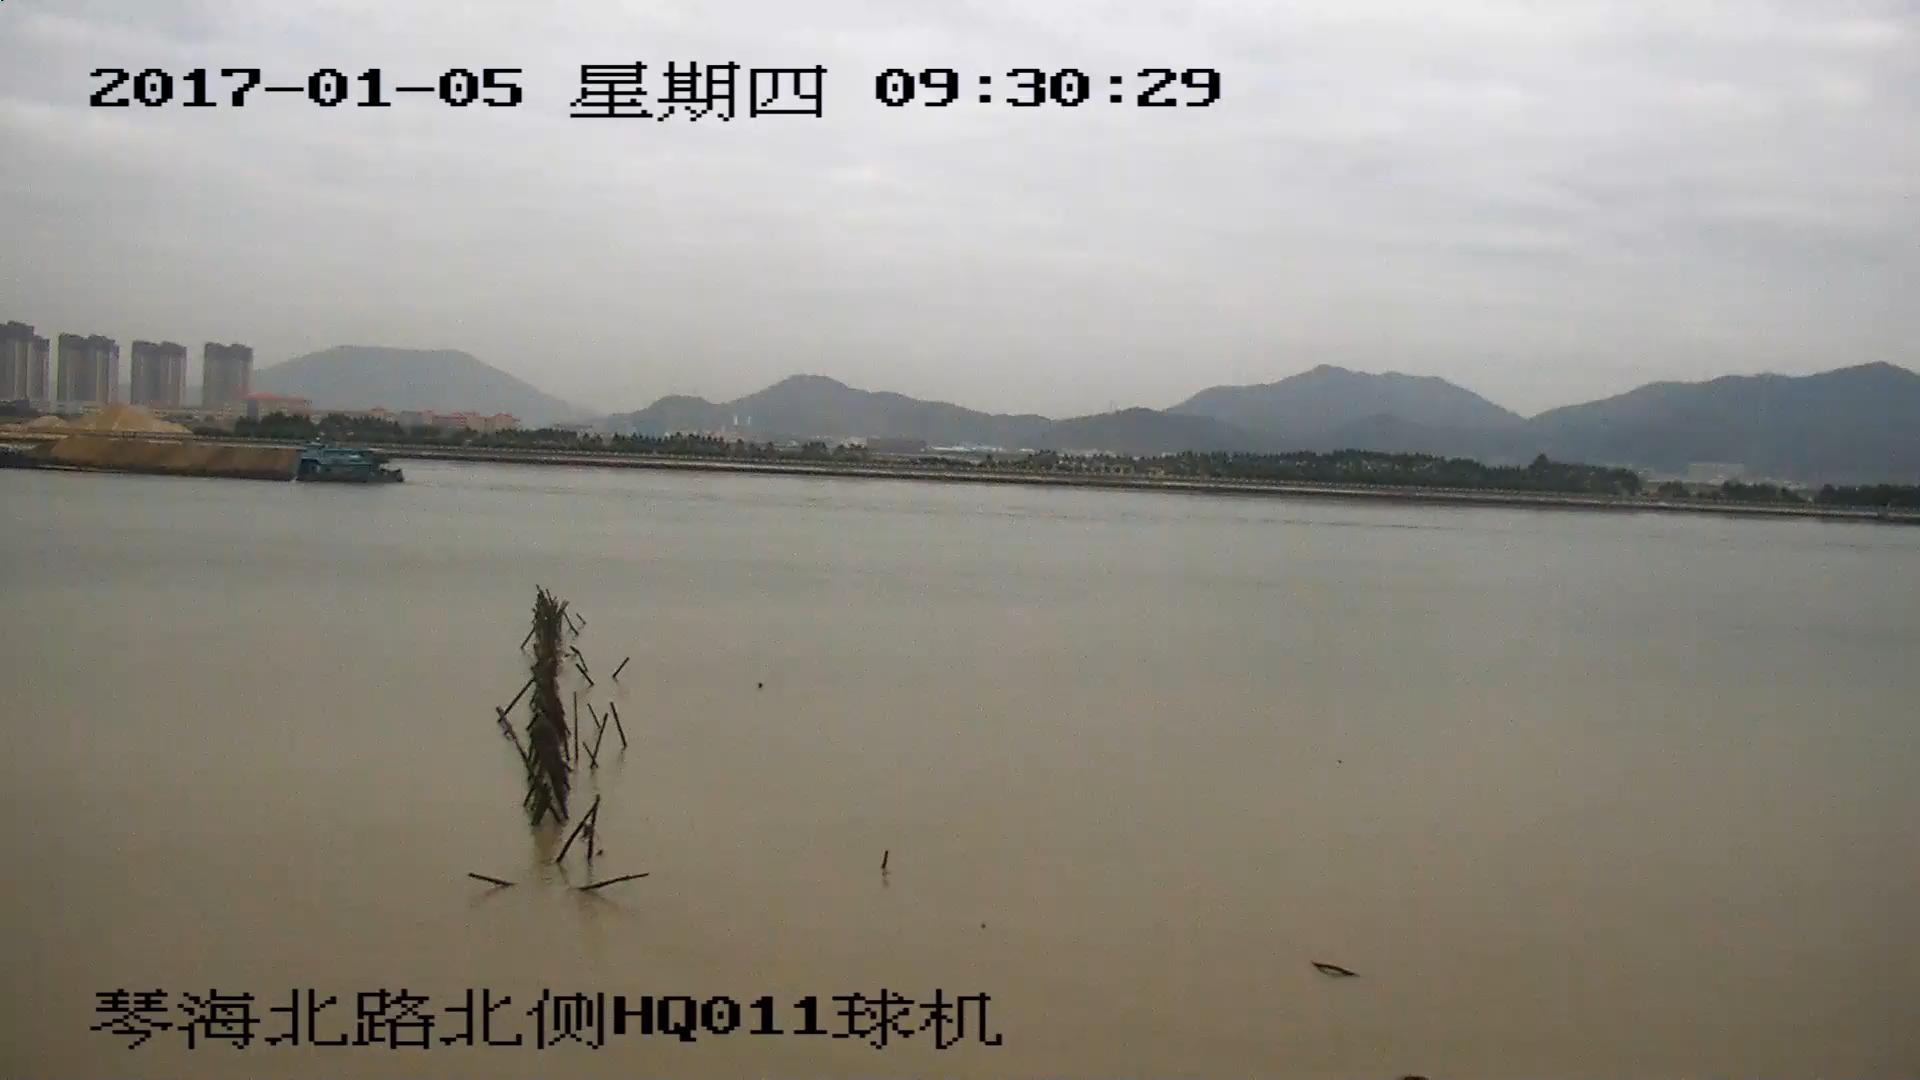ore carrier: (1, 436, 400, 486)
